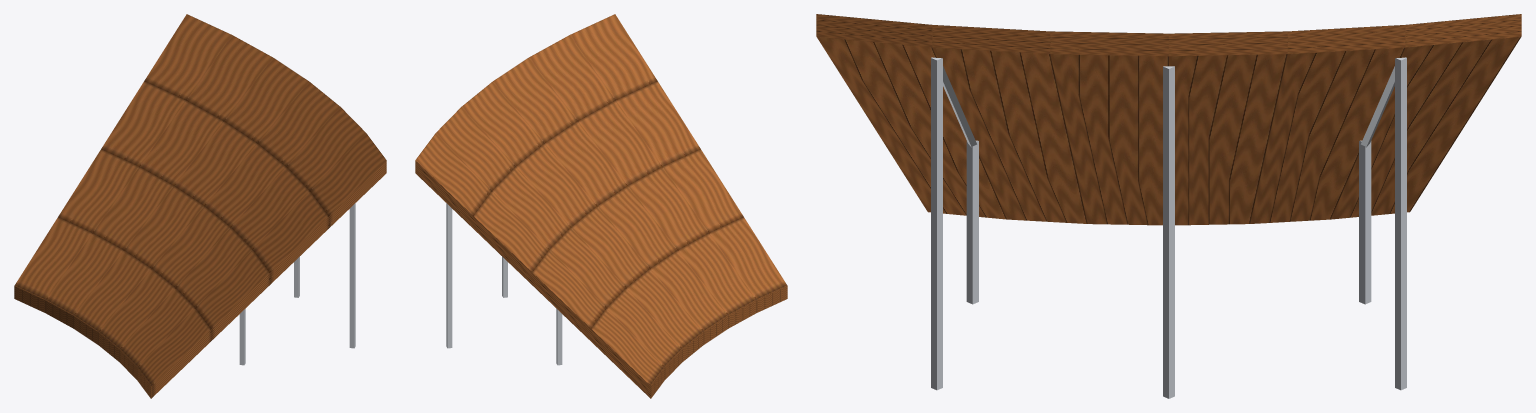
Rendered from velodrome-and-track-cycling-banked-track-bend-module-34140046__37976.glb.
The picture shows the model from 3 angles, left to right: view 1: azimuth 30°, elevation 25°; view 2: azimuth 150°, elevation 25°; view 3: azimuth 270°, elevation 25°; orthographic projection. The views are drawn at different scales.
Parts seen in each view (by area): view 1: banked-track-bend-module-board, banked-track-bend-module-steel; view 2: banked-track-bend-module-board, banked-track-bend-module-steel; view 3: banked-track-bend-module-board, banked-track-bend-module-steel.
Boxes of the visible parts, x1,y1,x2,y2 form: banked-track-bend-module-board: [14, 14, 386, 398]; banked-track-bend-module-steel: [239, 203, 355, 365]; banked-track-bend-module-board: [415, 14, 787, 398]; banked-track-bend-module-steel: [446, 203, 562, 365]; banked-track-bend-module-board: [816, 14, 1521, 225]; banked-track-bend-module-steel: [931, 57, 1406, 398].
Bounding box in the file's own units: 6.44 × 5.75 × 9.84.
2 materials, 1 textured.
